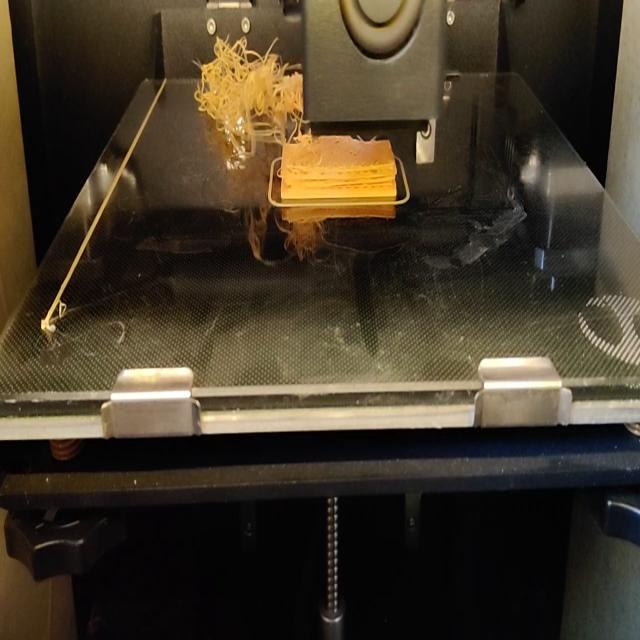spaghetti: (192, 34, 302, 156)
